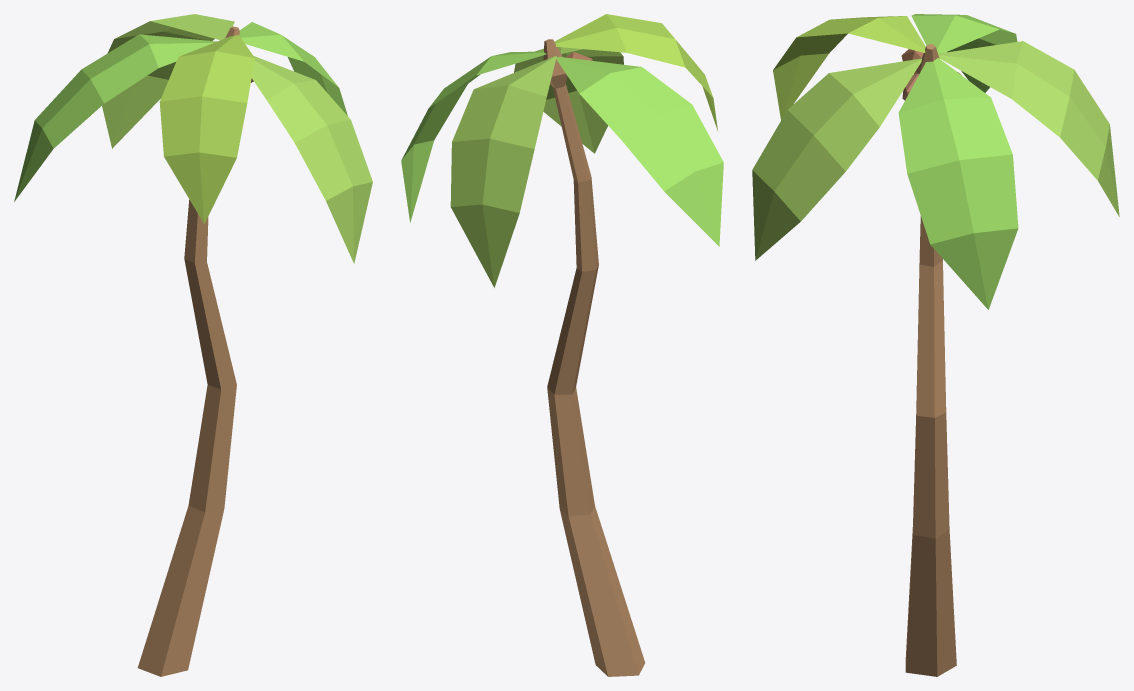
Rendered from Palm_Tree_Coconut_OneSided_s_04_LOD.fbx.
3 views of the same model, side by side, from view 1: azimuth 30°, elevation 25°; view 2: azimuth 150°, elevation 25°; view 3: azimuth 270°, elevation 25° (orthographic). The views are drawn at different scales.
Visible parts, largest first — view 1: Palm_Tree_Coconut_OneSided_s_04_LOD0; view 2: Palm_Tree_Coconut_OneSided_s_04_LOD0; view 3: Palm_Tree_Coconut_OneSided_s_04_LOD0.
Boxes of the visible parts, x1=… form: Palm_Tree_Coconut_OneSided_s_04_LOD0: x1=14, y1=14, x2=372, y2=676; Palm_Tree_Coconut_OneSided_s_04_LOD0: x1=401, y1=14, x2=723, y2=676; Palm_Tree_Coconut_OneSided_s_04_LOD0: x1=752, y1=14, x2=1119, y2=676.
Size of what is drawn, in the model's own units: 243 by 462 by 232.
